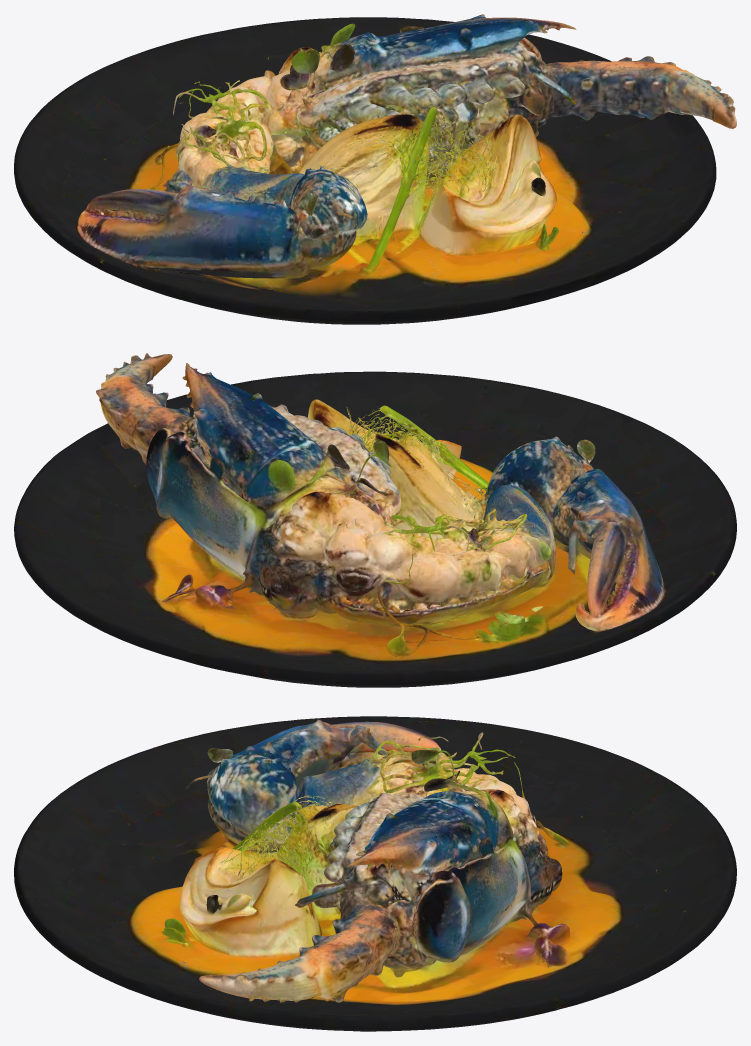
Rendered from homard-scene-q.glb.
3 views of the same model, one above another, from view 1: azimuth 30°, elevation 25°; view 2: azimuth 150°, elevation 25°; view 3: azimuth 270°, elevation 25° (orthographic). The views are drawn at different scales.
Bounding box in the file's own units: 1.89 × 0.4981 × 1.89.
Materials: 1 (1 with a texture image).
